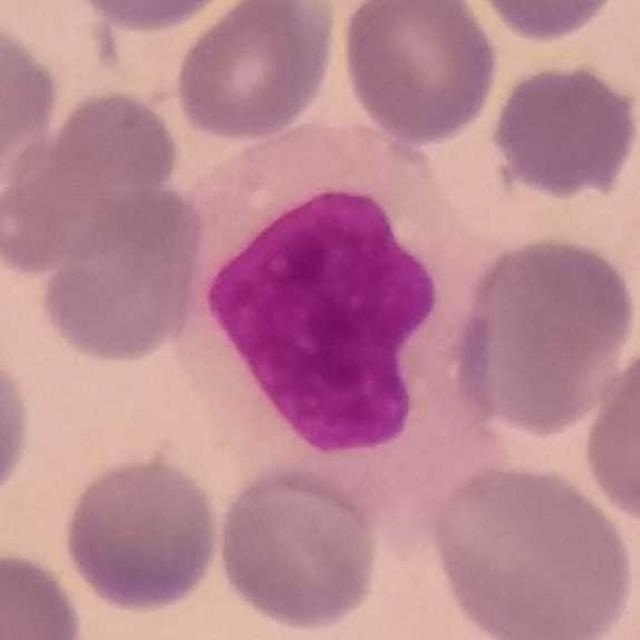Monocyte: (180, 121, 504, 526)
RBC: (447, 228, 640, 435), (424, 456, 639, 640), (1, 84, 188, 276), (29, 178, 209, 369), (211, 460, 384, 634), (59, 451, 224, 615), (336, 0, 503, 148), (170, 1, 341, 145), (486, 56, 640, 202), (579, 331, 640, 533), (0, 12, 63, 191), (0, 545, 89, 640), (460, 0, 628, 46), (63, 0, 245, 35), (0, 342, 36, 518)
